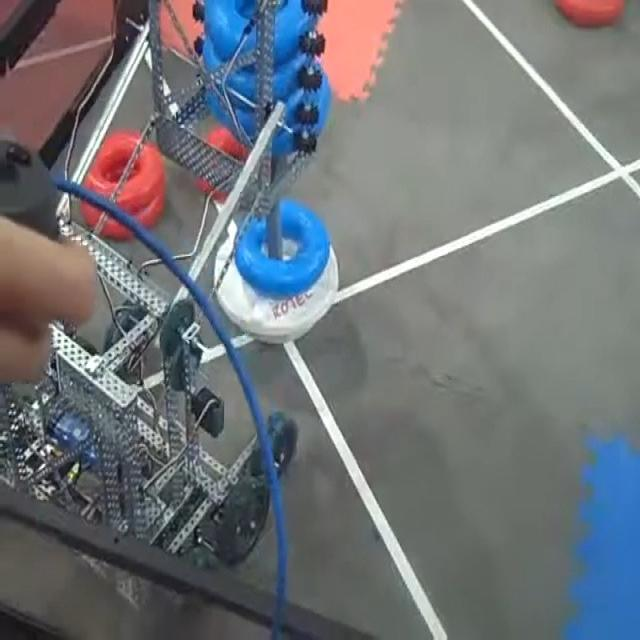Blue-Ring: (235, 198, 330, 298), (205, 0, 326, 65), (202, 38, 311, 109)
Red-Ring: (85, 132, 164, 213), (201, 128, 254, 210), (80, 193, 165, 239), (555, 1, 625, 26)
